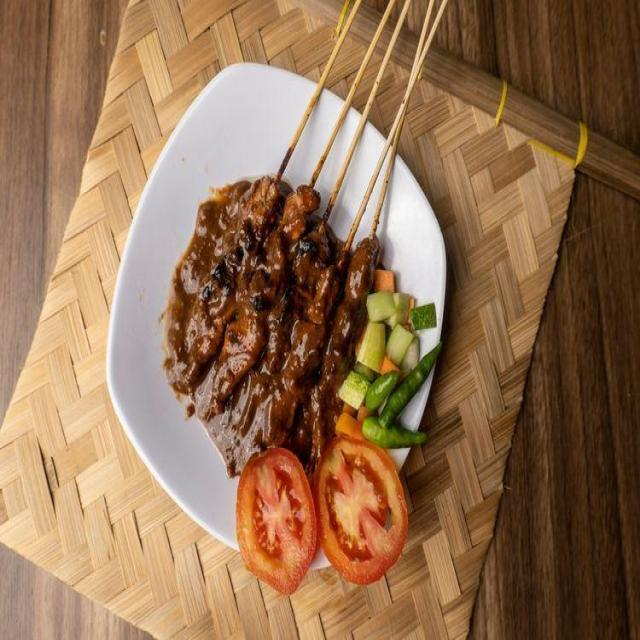Sate: (163, 9, 404, 440)
